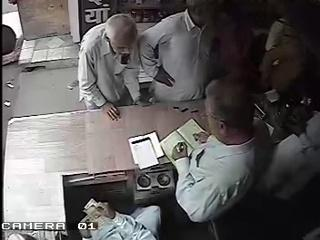Normal: (168, 70, 320, 240), (138, 0, 223, 104), (76, 13, 150, 121), (160, 118, 208, 168)
